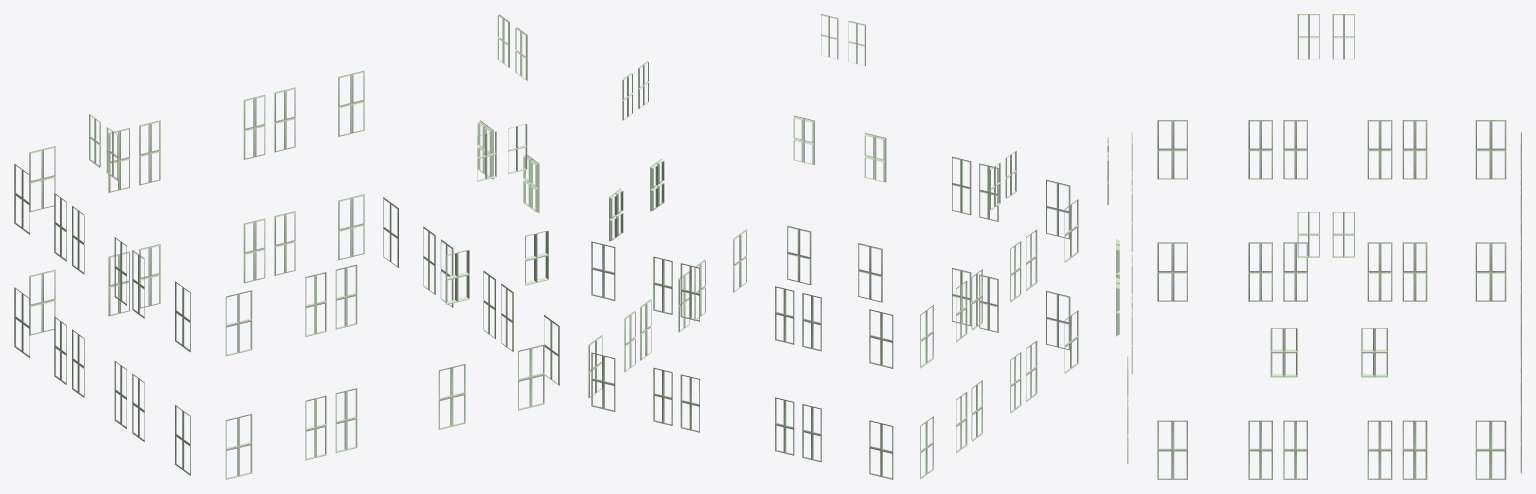
The model's file is FairyTale161.gltf.
The picture shows the model from 3 angles, left to right: view 1: azimuth 30°, elevation 25°; view 2: azimuth 150°, elevation 25°; view 3: azimuth 270°, elevation 25°; orthographic projection. The views are drawn at different scales.
Parts seen in each view (by area): view 1: HouseMD03_Mullions_Wood; view 2: HouseMD03_Mullions_Wood; view 3: HouseMD03_Mullions_Wood.
Part boxes in pixels (x1,y1,x2,y2): HouseMD03_Mullions_Wood: (14, 14, 559, 479); HouseMD03_Mullions_Wood: (588, 14, 1078, 479); HouseMD03_Mullions_Wood: (1107, 14, 1521, 479).
Size of the model in its own units: 10.39 by 7.14 by 9.18.
